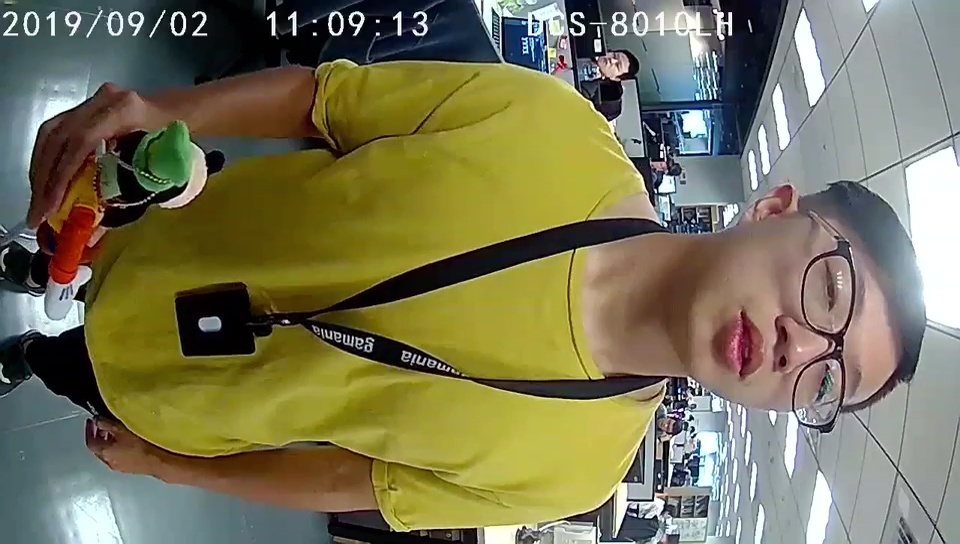goofy: (46, 123, 200, 320)
